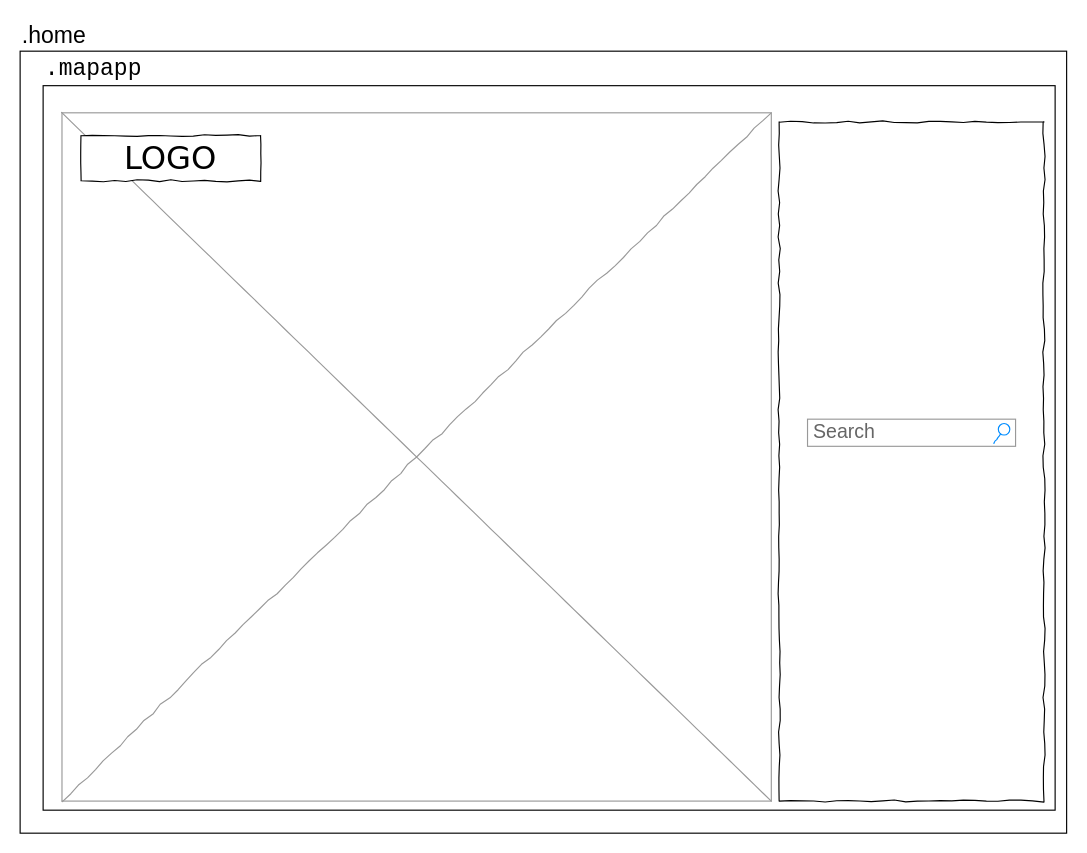
Some shapes in this 1087 by 853 pixel diagram are drawn without their labels. Here are the shapes that lost their labels. From the top down, the box of each, then its label:
(61, 112, 771, 801): #map
(778, 121, 1044, 801): .Content
